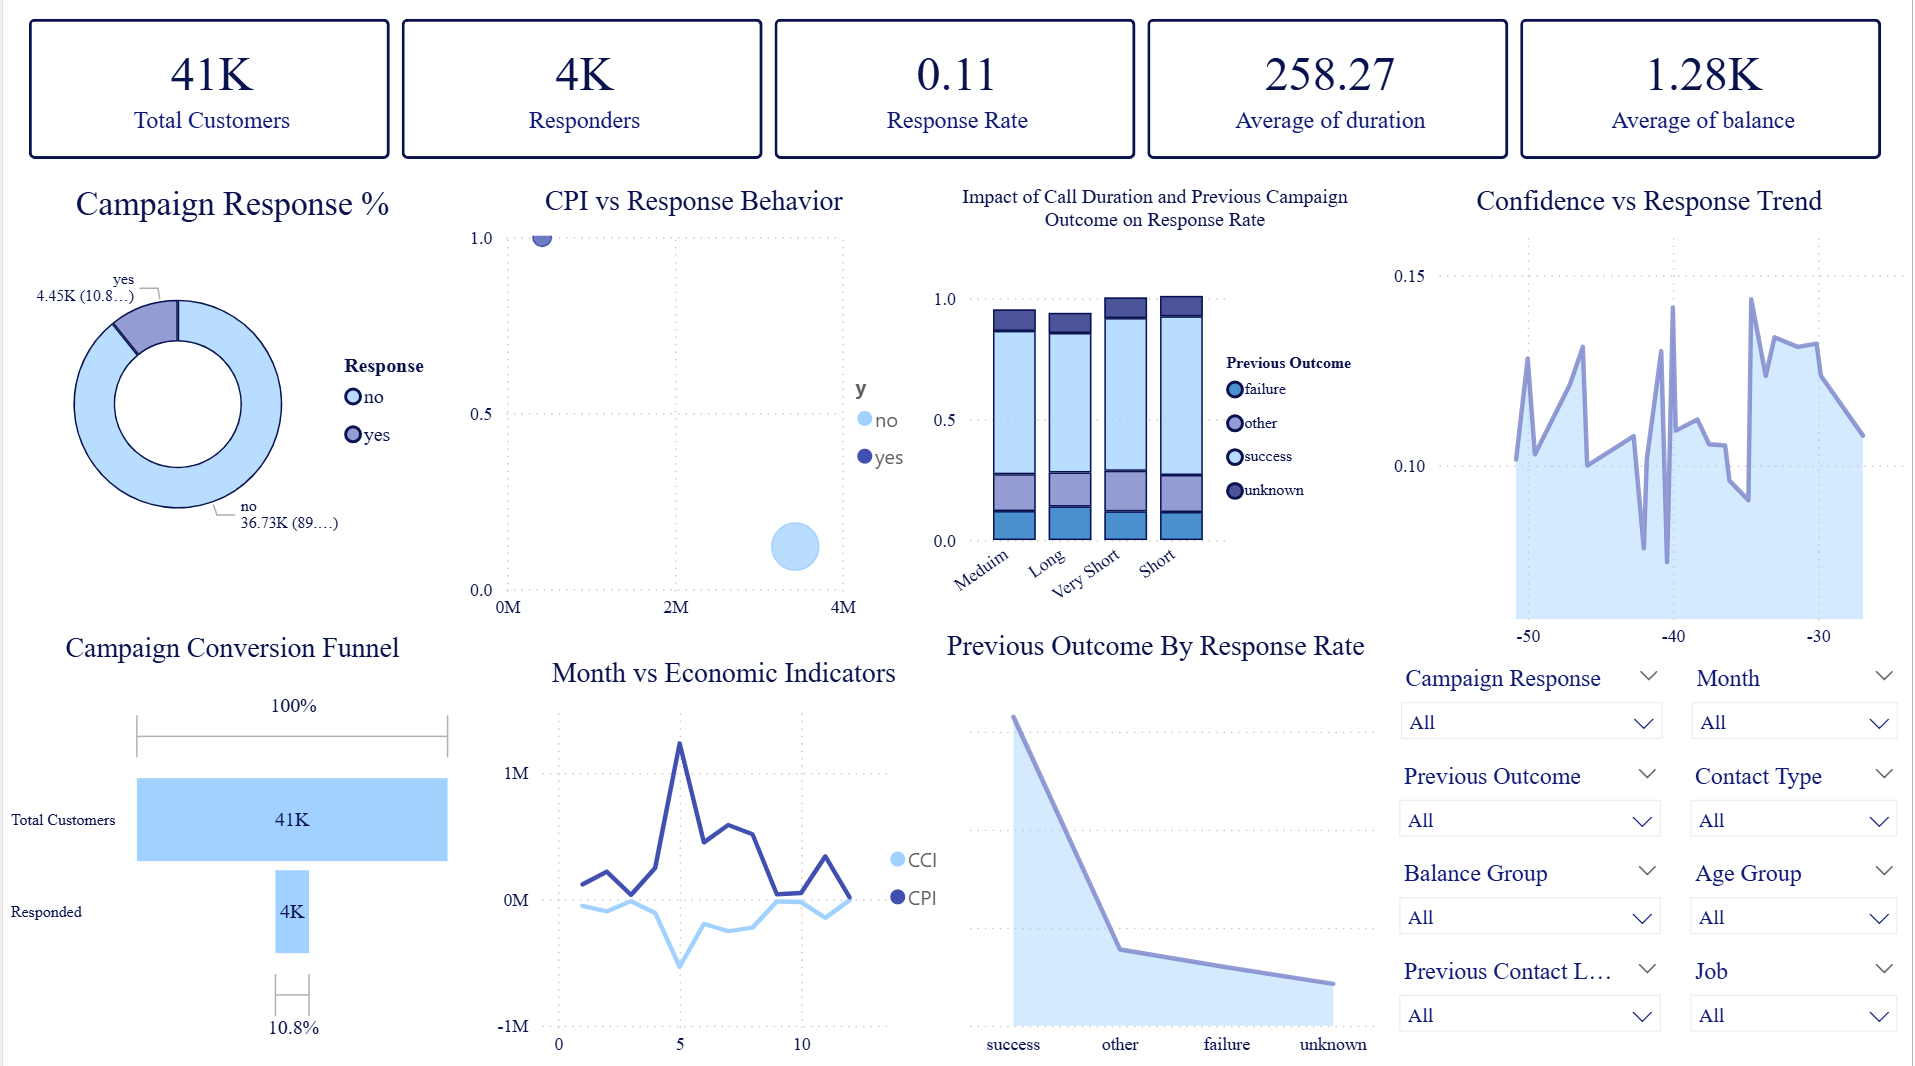

What the dashboard file says about the page in this screenshot:
{"tool":"powerbi","page":{"name":"OVERVIEW","canvas":[1280,720],"ordinal":5},"visuals":[{"type":"cardVisual","title":"Contact Type By Response Rate","fields":{"Data":["CampaignData.Total Customers","CampaignData.Responders","CampaignData.Response Rate","Avg(CampaignData.duration)","Avg(CampaignData.balance)"]},"box":[0,0,1280.3,128.7],"z":0},{"type":"donutChart","title":"Campaign Response  %","fields":{"Category":["CampaignData.y"],"Y":["CountNonNull(CampaignData.y)"]},"box":[0,128.7,307.8,268.5],"z":1000},{"type":"areaChart","title":"Previous Outcome By Response Rate","fields":{"Category":["CampaignData.poutcome"],"Y":["CampaignData.Response Rate"]},"box":[618.5,427.5,308.8,292.7],"z":3000},{"type":"areaChart","title":"Confidence vs Response Trend","fields":{"Y":["CampaignData.Response Rate"],"Category":["CampaignData.cons.conf.idx"]},"box":[927.3,128.7,353,317.8],"z":4000},{"type":"scatterChart","title":"CPI vs Response Behavior","fields":{"Y":["CampaignData.Response Rate"],"Size":["CampaignData.Total Customers"],"Series":["CampaignData.y"],"X":["Sum(CampaignData.cons.price.idx)"]},"box":[307.8,128.7,310.8,298.7],"z":5000},{"type":"lineChart","title":"Month vs Economic Indicators","fields":{"Category":["CampaignData.Month Number"],"Y":["Sum(CampaignData.cons.conf.idx)","Sum(CampaignData.cons.price.idx)"]},"box":[325.9,445.6,314.8,274.6],"z":6000},{"type":"slicer","title":"Contact Type By Response Rate","fields":{"Values":["CampaignData.poutcome"]},"box":[926.3,510.9,195.1,65.4],"z":7000},{"type":"slicer","title":"Contact Type By Response Rate","fields":{"Values":["CampaignData.month"]},"box":[1122.4,445.6,157.9,65.4],"z":8000},{"type":"slicer","title":"Contact Type By Response Rate","fields":{"Values":["CampaignData.y"]},"box":[927.3,445.6,195.1,65.4],"z":9000},{"type":"slicer","title":"Contact Type By Response Rate","fields":{"Values":["CampaignData.Balance Group"]},"box":[926.3,576.3,195.1,65.4],"z":10000},{"type":"slicer","title":"Contact Type By Response Rate","fields":{"Values":["CampaignData.contact"]},"box":[1121.4,510.9,158.9,65.4],"z":11000},{"type":"slicer","title":"Contact Type By Response Rate","fields":{"Values":["CampaignData.job"]},"box":[1121.4,641.7,158.9,78.5],"z":12000},{"type":"slicer","title":"Contact Type By Response Rate","fields":{"Values":["CampaignData.Age Group"]},"box":[1121.4,576.3,158.9,65.4],"z":13000},{"type":"columnChart","title":"Impact of Call Duration and Previous Campaign Outcome on Response Rate","fields":{"Y":["CampaignData.Response Rate"],"Category":["CampaignData.Duration Group"],"Series":["CampaignData.poutcome"]},"box":[618.5,128.7,307.8,299.7],"z":14000},{"type":"slicer","title":"Contact Type By Response Rate","fields":{"Values":["CampaignData.Previous Contact Level"]},"box":[926.3,641.7,195.1,78.5],"z":15000},{"type":"funnel","title":"Campaign Conversion Funnel","fields":{"Category":["Funnel Table.Stage"],"Y":["CampaignData.Funnel Values"]},"box":[0,428.5,307.8,291.7],"z":15001}]}

Visuals, with their boxes in screenshot pixels (x1, y1, x2, y2), scaled from the page's 1280x720 canvas onto the 1915x1066 screenshot:
"Contact Type By Response Rate" cardVisual: bbox(0, 0, 1914, 191)
"Campaign Response  %" donutChart: bbox(0, 191, 460, 588)
"Previous Outcome By Response Rate" areaChart: bbox(925, 633, 1387, 1065)
"Confidence vs Response Trend" areaChart: bbox(1387, 191, 1914, 661)
"CPI vs Response Behavior" scatterChart: bbox(460, 191, 925, 633)
"Month vs Economic Indicators" lineChart: bbox(488, 660, 959, 1065)
"Contact Type By Response Rate" slicer: bbox(1386, 756, 1678, 853)
"Contact Type By Response Rate" slicer: bbox(1679, 660, 1914, 757)
"Contact Type By Response Rate" slicer: bbox(1387, 660, 1679, 757)
"Contact Type By Response Rate" slicer: bbox(1386, 853, 1678, 950)
"Contact Type By Response Rate" slicer: bbox(1678, 756, 1914, 853)
"Contact Type By Response Rate" slicer: bbox(1678, 950, 1914, 1065)
"Contact Type By Response Rate" slicer: bbox(1678, 853, 1914, 950)
"Impact of Call Duration and Previous Campaign Outcome on Response Rate" columnChart: bbox(925, 191, 1386, 634)
"Contact Type By Response Rate" slicer: bbox(1386, 950, 1678, 1065)
"Campaign Conversion Funnel" funnel: bbox(0, 634, 460, 1065)
